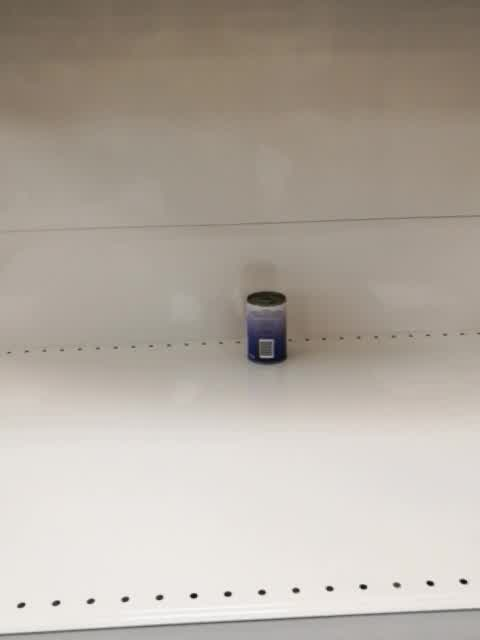sardine: (244, 291, 288, 365)
